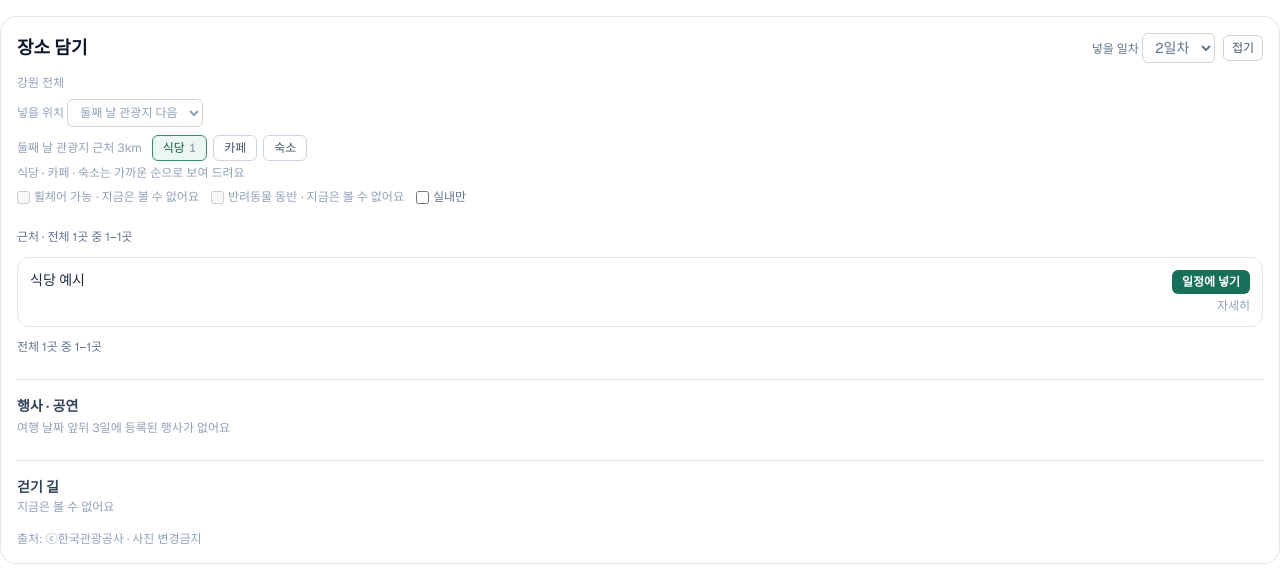
Test: 일차 변경 시 이전 날 기준 장소와 근처 검색을 초기화한다
The image size is (1280, 581).
Select "1일차" in the dropdown labelled "넣을 일차" at {"x": 1178, "y": 48}, box [1142, 33, 1215, 63]
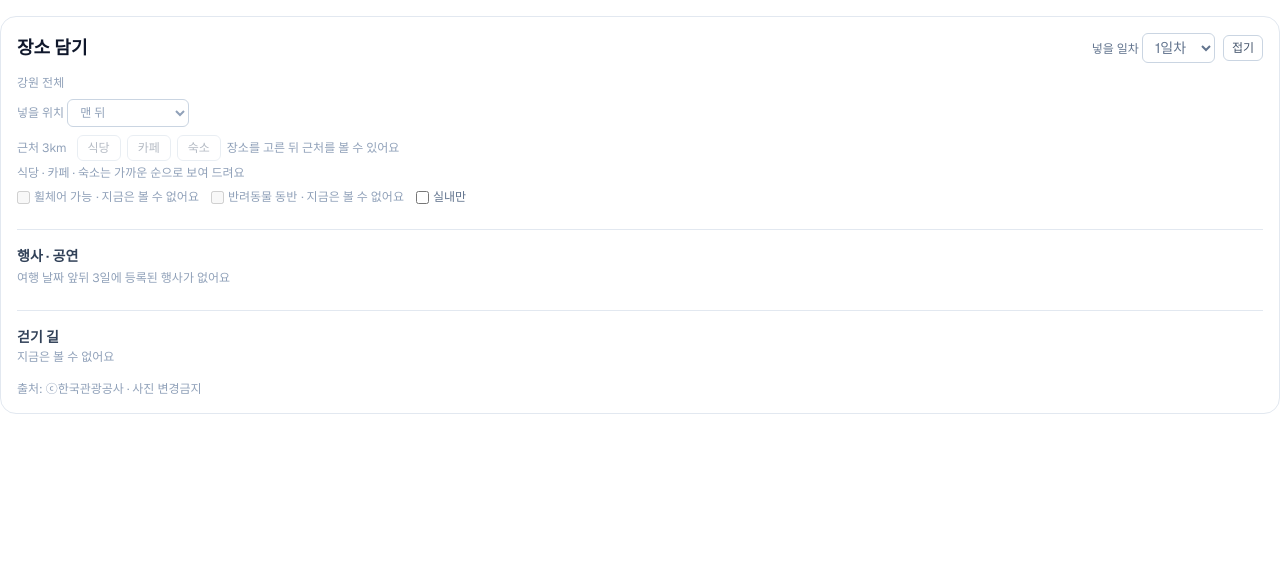
Now the dropdown labelled "넣을 위치" shows "맨 뒤", box [67, 99, 189, 127]
Now the text "둘째 날 관광지" is gone
Now the button "식당" is disabled, box [76, 135, 121, 161]
